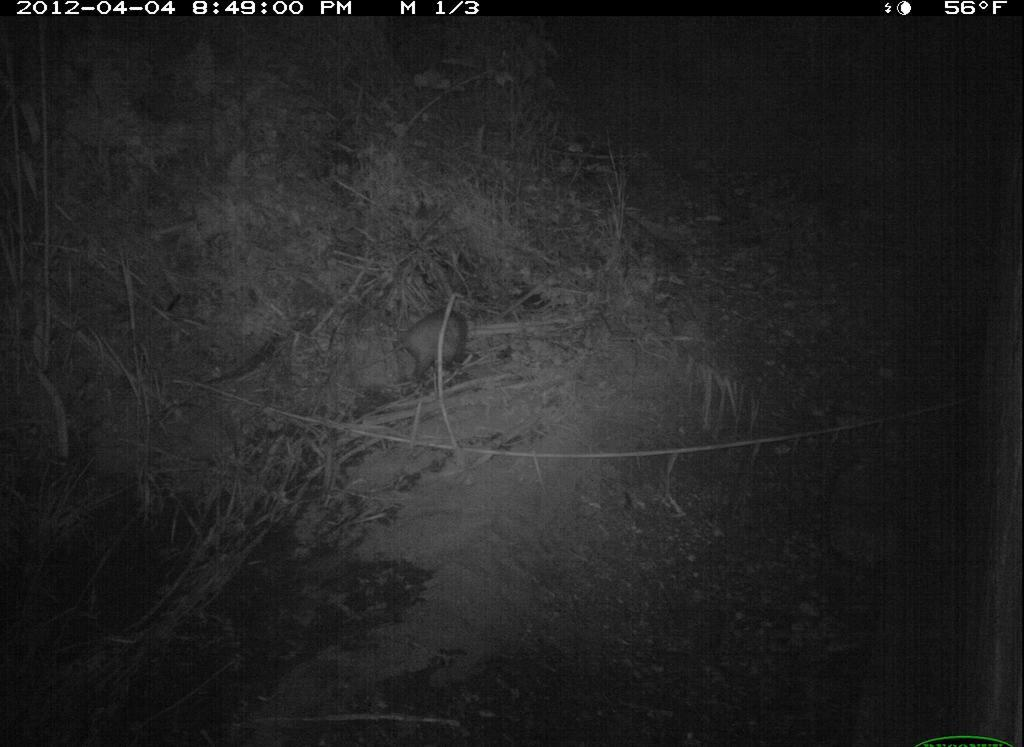opossum: (368, 304, 484, 427)
